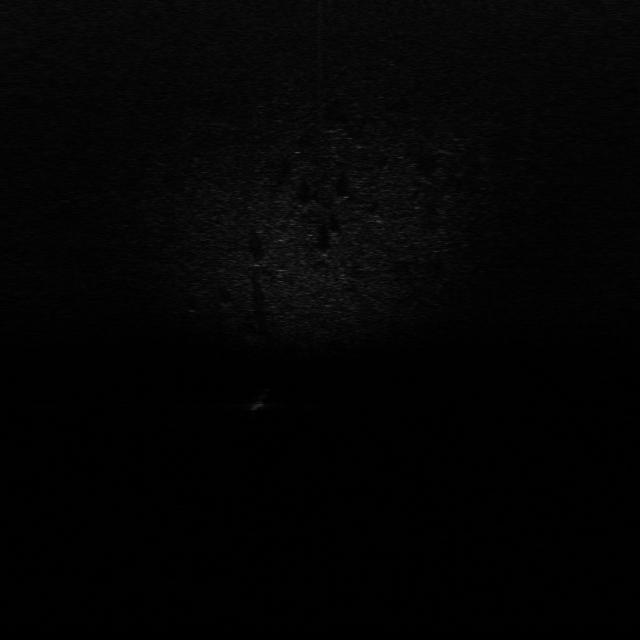human body: (249, 385, 272, 423)
